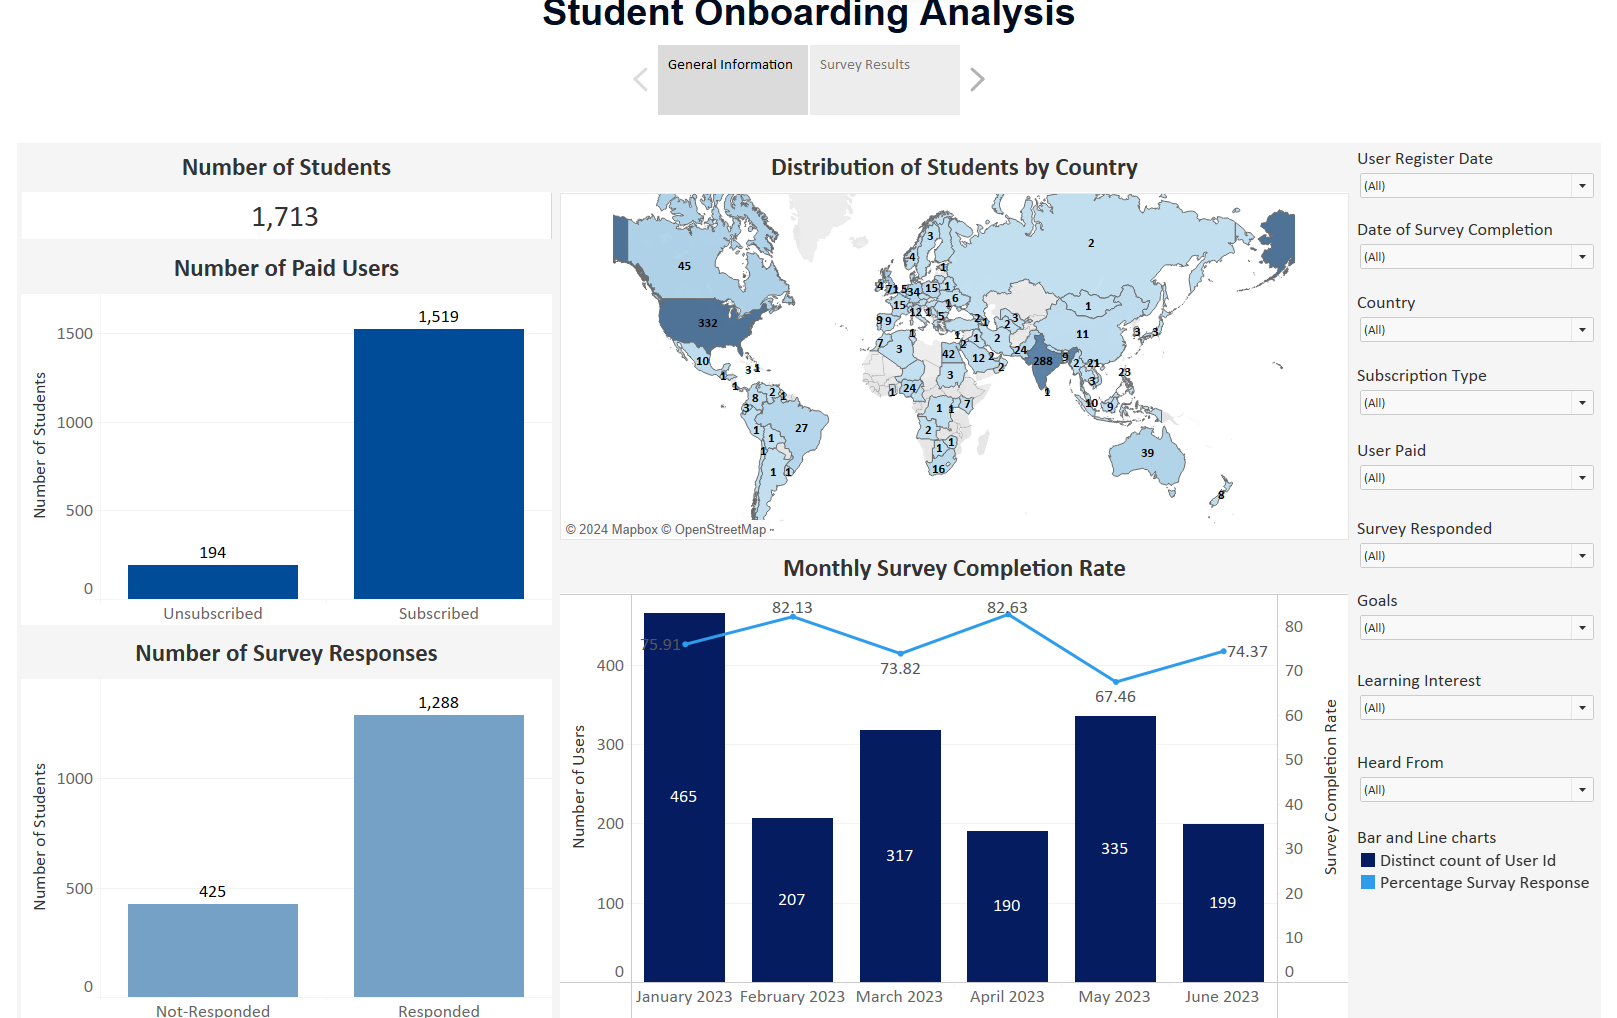

The page's visual inventory and layout, read from the dashboard file:
{"tool":"tableau","page":{"name":"General_info","canvas":[1600,900],"ordinal":0},"visuals":[{"type":"worksheet","title":"N_students","mark":"Automatic","box":[8,8,539,101]},{"type":"worksheet","title":"Students_by_country","mark":"Automatic","box":[547,8,797,401]},{"type":"filter","title":"Monthly_com_rate","param":"[federated.13nhali0mdl4lt133s85s0u0hq8s].[mn:user_registered:ok]","box":[1344,8,248,71]},{"type":"filter","title":"Monthly_com_rate","param":"[federated.13nhali0mdl4lt133s85s0u0hq8s].[my:completed_date:ok]","box":[1344,79,248,73]},{"type":"worksheet","title":"Paid_users","mark":"Bar","rows":["user_id"],"cols":["user_paid"],"box":[8,109,539,385]},{"type":"filter","title":"Students_by_country","param":"[federated.13nhali0mdl4lt133s85s0u0hq8s].[none:onboarding_country:nk]","box":[1344,152,248,73]},{"type":"filter","title":"Paid_users","param":"[federated.13nhali0mdl4lt133s85s0u0hq8s].[none:subscription_type:nk]","box":[1344,225,248,75]},{"type":"filter","title":"Paid_users","param":"[federated.13nhali0mdl4lt133s85s0u0hq8s].[none:user_paid:ok]","box":[1344,300,248,78]},{"type":"filter","title":"Responded_users","param":"[federated.13nhali0mdl4lt133s85s0u0hq8s].[none:onboarded:nk]","box":[1344,378,248,62]},{"type":"worksheet","title":"Monthly_com_rate","mark":"Automatic","rows":["user_id","Calculation_1199083464317456387"],"cols":["user_registered"],"box":[547,409,797,483]},{"type":"filter","title":"Monthly_com_rate","param":"[federated.13nhali0mdl4lt133s85s0u0hq8s].[none:onboarding_goals_label:nk]","box":[1344,450,248,80]},{"type":"worksheet","title":"Responded_users","mark":"Bar","rows":["user_id"],"cols":["onboarded"],"box":[8,494,539,398]},{"type":"filter","title":"Monthly_com_rate","param":"[federated.13nhali0mdl4lt133s85s0u0hq8s].[none:onboarding_learn_label:nk]","box":[1344,530,248,82]},{"type":"filter","title":"Monthly_com_rate","param":"[federated.13nhali0mdl4lt133s85s0u0hq8s].[none:onboarding_heard_from_label:nk]","box":[1344,612,248,75]},{"type":"legend","title":"Monthly_com_rate","param":"[federated.13nhali0mdl4lt133s85s0u0hq8s].[:Measure Names]","box":[1344,687,248,75]}]}

Visuals, with their boxes on the page's 1600x900 design canvas (x1, y1, x2, y2). These are canvas units, not pixel positions in the 1617x1018 screenshot, which may show the page scaled, cropped or inside an application window:
"N_students" worksheet: region(8, 8, 547, 109)
"Students_by_country" worksheet: region(547, 8, 1344, 409)
"Monthly_com_rate" filter: region(1344, 8, 1592, 79)
"Monthly_com_rate" filter: region(1344, 79, 1592, 152)
"Paid_users" worksheet (Bar marks): region(8, 109, 547, 494)
"Students_by_country" filter: region(1344, 152, 1592, 225)
"Paid_users" filter: region(1344, 225, 1592, 300)
"Paid_users" filter: region(1344, 300, 1592, 378)
"Responded_users" filter: region(1344, 378, 1592, 440)
"Monthly_com_rate" worksheet: region(547, 409, 1344, 892)
"Monthly_com_rate" filter: region(1344, 450, 1592, 530)
"Responded_users" worksheet (Bar marks): region(8, 494, 547, 892)
"Monthly_com_rate" filter: region(1344, 530, 1592, 612)
"Monthly_com_rate" filter: region(1344, 612, 1592, 687)
"Monthly_com_rate" legend: region(1344, 687, 1592, 762)
